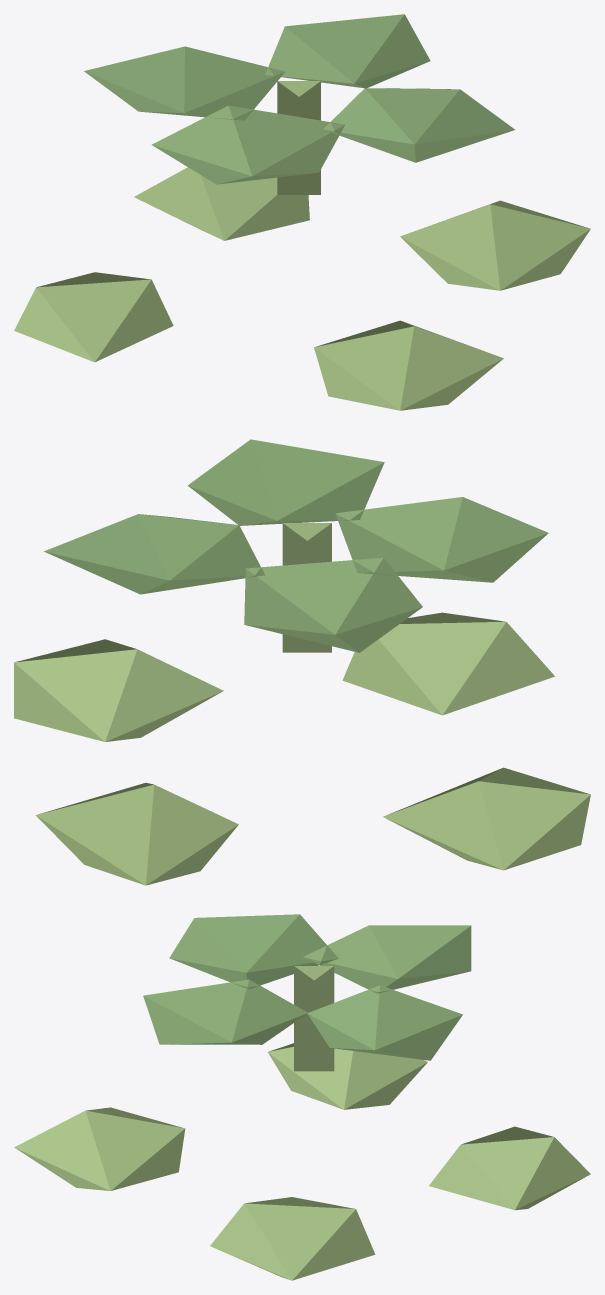
File: cao.dixue@flowering__spring.glb
3 renders of one model, top to bottom at view 1: azimuth 30°, elevation 25°; view 2: azimuth 150°, elevation 25°; view 3: azimuth 270°, elevation 25°, orthographic. The views are drawn at different scales.
Parts seen in each view (by area): view 1: cao.dixue@flowering__spring; view 2: cao.dixue@flowering__spring; view 3: cao.dixue@flowering__spring.
Boxes of the visible parts, x1=… form: cao.dixue@flowering__spring: x1=14, y1=14, x2=590, y2=410; cao.dixue@flowering__spring: x1=14, y1=439, x2=590, y2=885; cao.dixue@flowering__spring: x1=14, y1=914, x2=590, y2=1280.
Bounding box in the file's own units: 0.8892 × 0.4032 × 0.8919.
